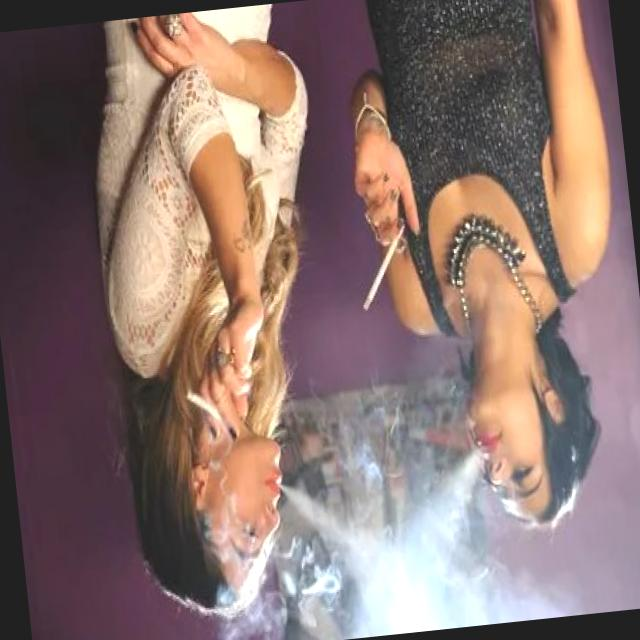smoke: (348, 213, 416, 315), (182, 376, 230, 432)
